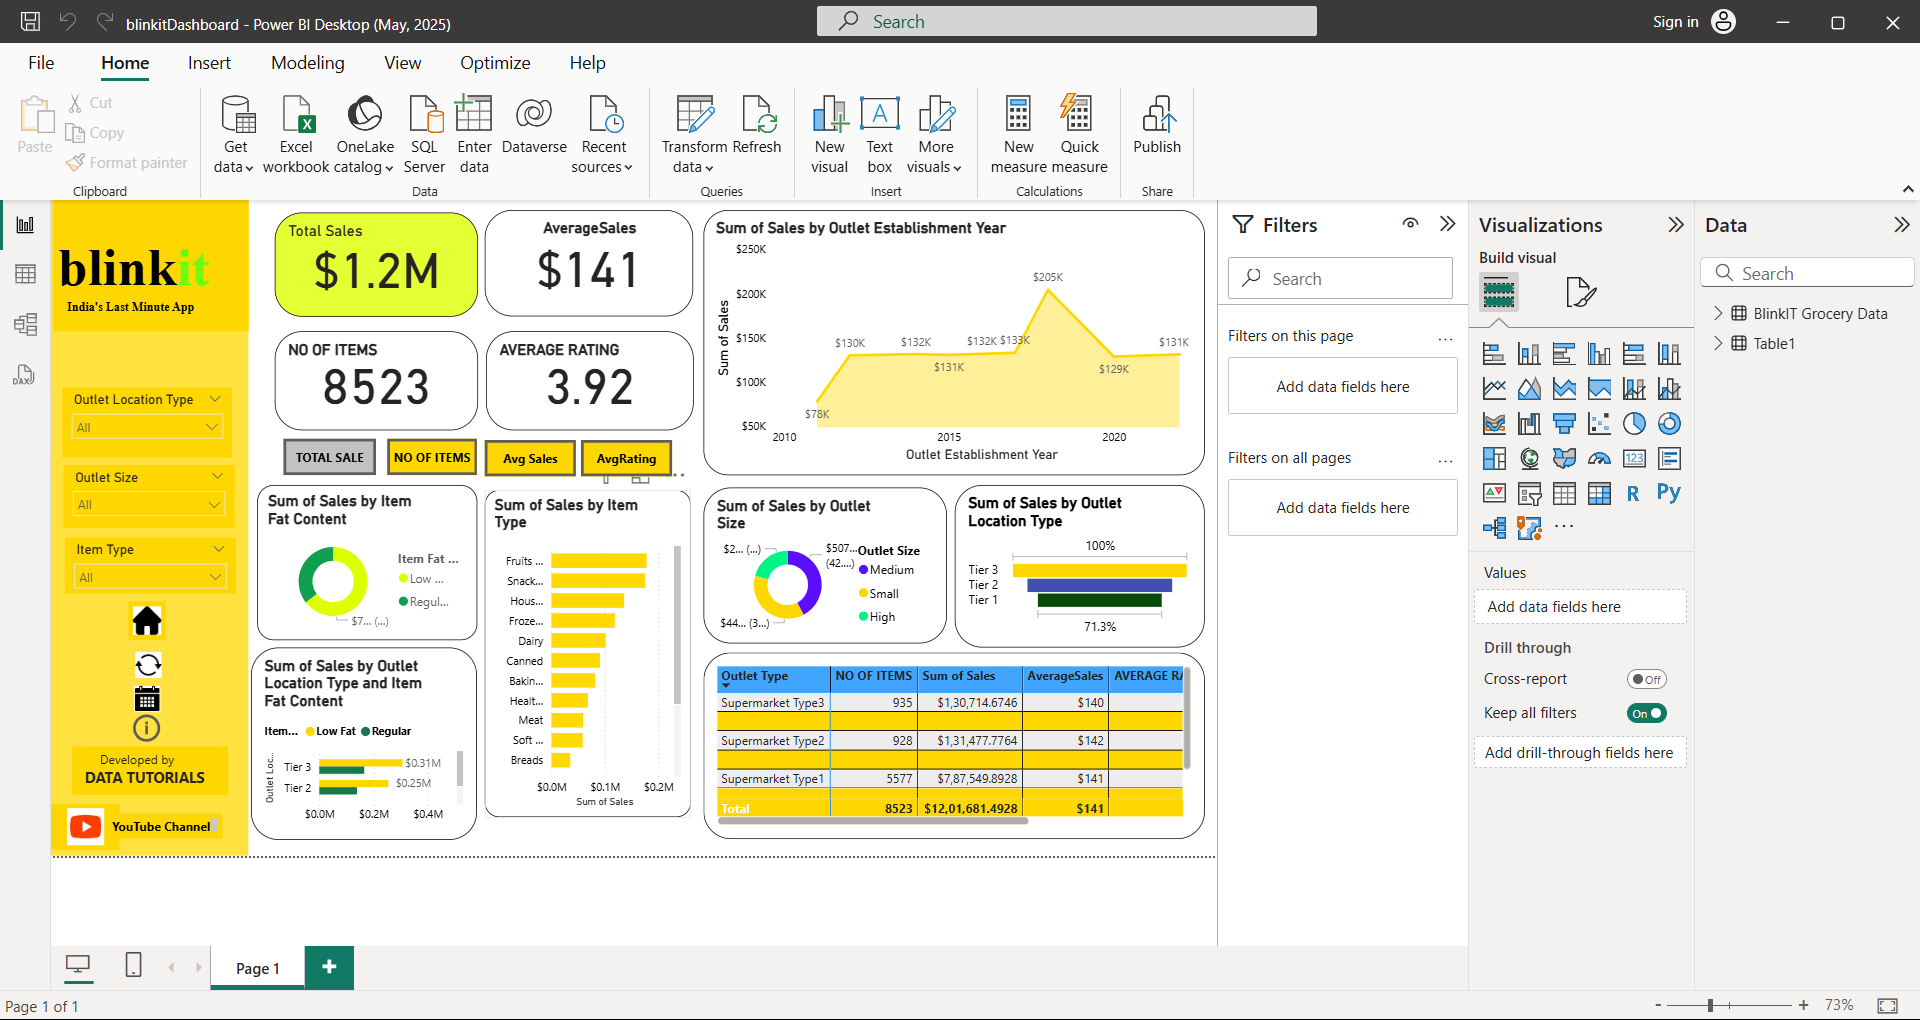

This screenshot's page, from the dashboard's own definition file:
{"tool":"powerbi","page":{"name":"Page 1","canvas":[1280,720],"ordinal":0},"visuals":[{"type":"shape","box":[0,0,217.1,720],"z":0},{"type":"card","title":"Total Sales","fields":{"Values":["Sum(BlinkIT Grocery Data.Sales)"]},"box":[245.7,14.3,222.9,114.3],"z":1000},{"type":"card","title":"AverageSales","fields":{"Values":["BlinkIT Grocery Data.AverageSales"]},"box":[476.2,11,229.2,116.6],"z":2000},{"type":"card","title":"NO OF ITEMS","fields":{"Values":["BlinkIT Grocery Data.NO OF ITEMS"]},"box":[245.7,144.3,222.9,108.6],"z":3000},{"type":"card","title":"AVERAGE RATING","fields":{"Values":["BlinkIT Grocery Data.AVERAGE RATING"]},"box":[477.5,144.1,227.8,108.4],"z":4000},{"type":"donutChart","fields":{"Y":["Sum(BlinkIT Grocery Data.Sales)"],"Category":["BlinkIT Grocery Data.Item Fat Content"]},"box":[226.4,312.9,241.5,170.2],"z":5000},{"type":"clusteredBarChart","fields":{"Category":["BlinkIT Grocery Data.Outlet Location Type"],"Y":["Sum(BlinkIT Grocery Data.Sales)"],"Series":["BlinkIT Grocery Data.Item Fat Content"]},"box":[219.6,491.3,248.4,211.3],"z":6000},{"type":"clusteredBarChart","fields":{"Category":["BlinkIT Grocery Data.Item Type"],"Y":["Sum(BlinkIT Grocery Data.Sales)"]},"box":[476.2,318.4,226.4,359.5],"z":7000},{"type":"areaChart","fields":{"Category":["BlinkIT Grocery Data.Outlet Establishment Year"],"Y":["Sum(BlinkIT Grocery Data.Sales)"]},"box":[716.3,11,550.3,290.9],"z":8000},{"type":"donutChart","fields":{"Category":["BlinkIT Grocery Data.Outlet Size"],"Y":["Sum(BlinkIT Grocery Data.Sales)"]},"box":[716.3,315.6,267.6,171.5],"z":9000},{"type":"funnel","fields":{"Category":["BlinkIT Grocery Data.Outlet Location Type"],"Y":["Sum(BlinkIT Grocery Data.Sales)"]},"box":[992.1,312.9,274.4,178.4],"z":10000},{"type":"pivotTable","fields":{"Rows":["BlinkIT Grocery Data.Outlet Type"],"Values":["BlinkIT Grocery Data.NO OF ITEMS","Sum(BlinkIT Grocery Data.Sales)","BlinkIT Grocery Data.AverageSales","BlinkIT Grocery Data.AVERAGE RATING","Sum(BlinkIT Grocery Data.Item Visibility)"]},"box":[716.3,496.7,550.3,204.5],"z":11000},{"type":"actionButton","box":[255.2,262.1,101.5,39.8],"z":12000},{"type":"actionButton","box":[369.1,262.1,98.8,39.8],"z":13000},{"type":"actionButton","box":[476.2,263.5,100.2,39.8],"z":14000},{"type":"actionButton","box":[581.8,263.5,100.2,39.8],"z":15000},{"type":"slicer","fields":{"Values":["BlinkIT Grocery Data.Outlet Location Type"]},"box":[12.3,205.8,186.6,76.8],"z":16000},{"type":"slicer","fields":{"Values":["BlinkIT Grocery Data.Outlet Size"]},"box":[13.7,290.9,188,68.6],"z":17000},{"type":"slicer","fields":{"Values":["BlinkIT Grocery Data.Item Type"]},"box":[15.1,370.5,188,61.7],"z":18000},{"type":"textbox","box":[2.7,0,214.1,144.1],"z":19000},{"type":"image","box":[87.8,491.3,38.4,38.4],"z":20000},{"type":"image","box":[0,662.8,75.5,50.8],"z":21000},{"type":"image","box":[86.4,521.4,38.4,53.5],"z":22000},{"type":"image","box":[85.1,440.5,41.2,42.5],"z":23000},{"type":"textbox","box":[23.3,599.7,171.5,53.5],"z":24000},{"type":"textbox","box":[61.7,673.8,126.2,27.4],"z":25000},{"type":"actionButton","box":[85.1,559.9,100.2,39.8],"z":25001}]}

Visuals, with their boxes on the page's 1280x720 design canvas (x1, y1, x2, y2). These are canvas units, not pixel positions in the 1920x1020 screenshot, which may show the page scaled, cropped or inside an application window:
shape: x1=0, y1=0, x2=217, y2=720
"Total Sales" card: x1=246, y1=14, x2=469, y2=129
"AverageSales" card: x1=476, y1=11, x2=705, y2=128
"NO OF ITEMS" card: x1=246, y1=144, x2=469, y2=253
"AVERAGE RATING" card: x1=478, y1=144, x2=705, y2=252
donutChart - Sum(BlinkIT Grocery Data.Sales) x BlinkIT Grocery Data.Item Fat Content: x1=226, y1=313, x2=468, y2=483
clusteredBarChart - BlinkIT Grocery Data.Outlet Location Type x Sum(BlinkIT Grocery Data.Sales): x1=220, y1=491, x2=468, y2=703
clusteredBarChart - BlinkIT Grocery Data.Item Type x Sum(BlinkIT Grocery Data.Sales): x1=476, y1=318, x2=703, y2=678
areaChart - BlinkIT Grocery Data.Outlet Establishment Year x Sum(BlinkIT Grocery Data.Sales): x1=716, y1=11, x2=1267, y2=302
donutChart - BlinkIT Grocery Data.Outlet Size x Sum(BlinkIT Grocery Data.Sales): x1=716, y1=316, x2=984, y2=487
funnel - BlinkIT Grocery Data.Outlet Location Type x Sum(BlinkIT Grocery Data.Sales): x1=992, y1=313, x2=1266, y2=491
pivotTable - BlinkIT Grocery Data.Outlet Type x BlinkIT Grocery Data.NO OF ITEMS: x1=716, y1=497, x2=1267, y2=701
actionButton: x1=255, y1=262, x2=357, y2=302
actionButton: x1=369, y1=262, x2=468, y2=302
actionButton: x1=476, y1=264, x2=576, y2=303
actionButton: x1=582, y1=264, x2=682, y2=303
slicer - BlinkIT Grocery Data.Outlet Location Type: x1=12, y1=206, x2=199, y2=283
slicer - BlinkIT Grocery Data.Outlet Size: x1=14, y1=291, x2=202, y2=360
slicer - BlinkIT Grocery Data.Item Type: x1=15, y1=370, x2=203, y2=432
textbox: x1=3, y1=0, x2=217, y2=144
image: x1=88, y1=491, x2=126, y2=530
image: x1=0, y1=663, x2=76, y2=714
image: x1=86, y1=521, x2=125, y2=575
image: x1=85, y1=440, x2=126, y2=483
textbox: x1=23, y1=600, x2=195, y2=653
textbox: x1=62, y1=674, x2=188, y2=701
actionButton: x1=85, y1=560, x2=185, y2=600
